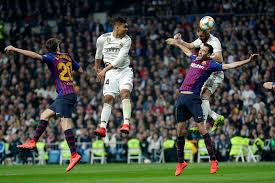barcelona: (27, 37, 84, 174), (163, 44, 213, 175)
realmadrid: (88, 19, 142, 136), (196, 30, 226, 126)
